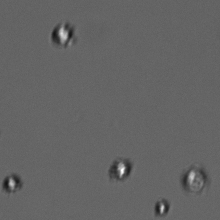Living Cell: (51, 21, 78, 49), (182, 165, 208, 194), (106, 157, 135, 181), (1, 173, 25, 193), (155, 198, 170, 216)
